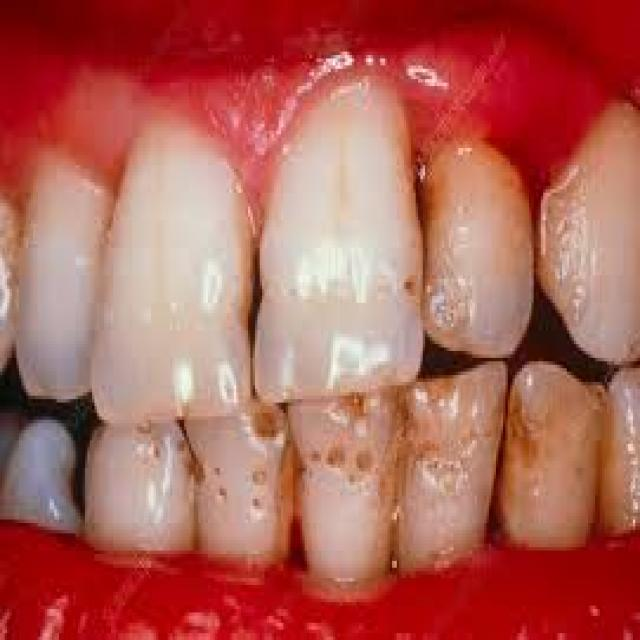tooth: (258, 69, 425, 396), (95, 96, 252, 424), (538, 100, 640, 368), (425, 114, 534, 361), (16, 127, 97, 403), (290, 386, 402, 574), (508, 344, 607, 551), (406, 368, 498, 568), (189, 399, 295, 568), (85, 402, 194, 550), (4, 402, 82, 536)
